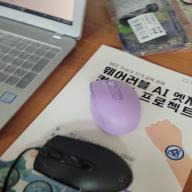mouse: (32, 132, 136, 192), (91, 78, 141, 137)
